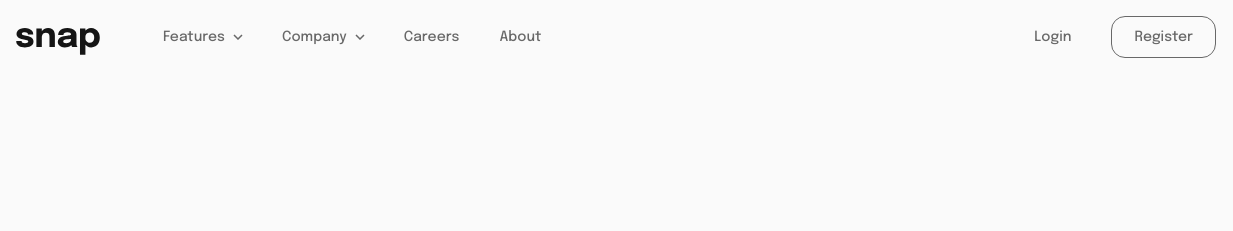
it: SiteHeader › closes when focus tabs past the last submenu link
Click the button "Company": (323,37) [282,29,364,45]
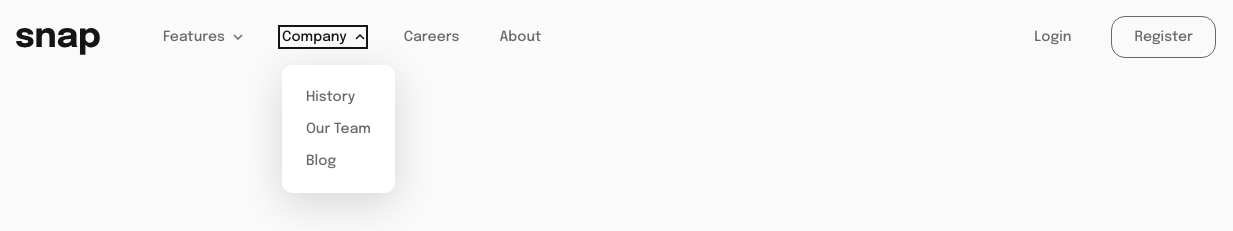
Press Tab
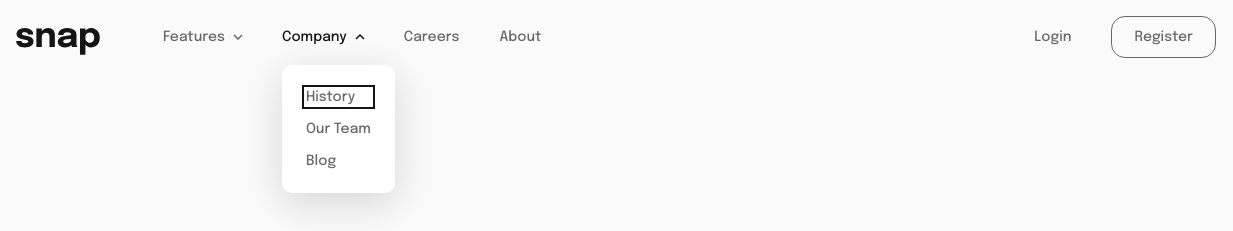
Press Tab
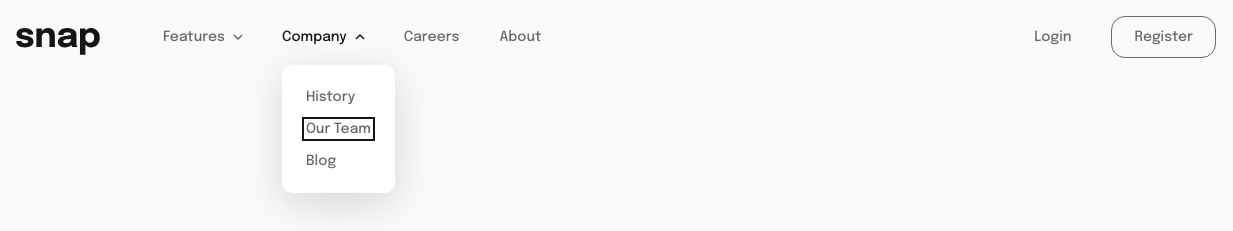
Press Tab
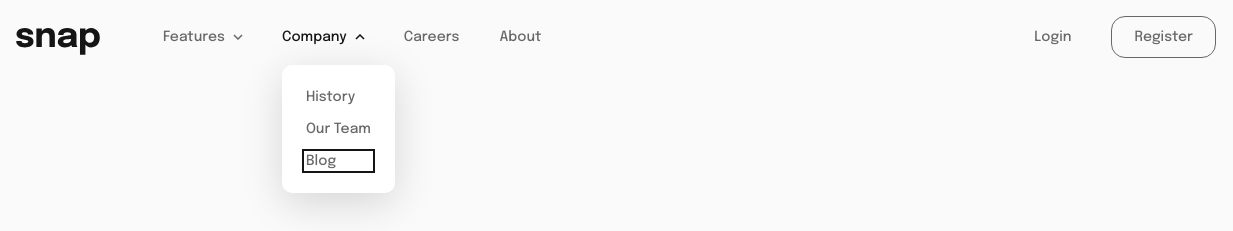
Press Tab
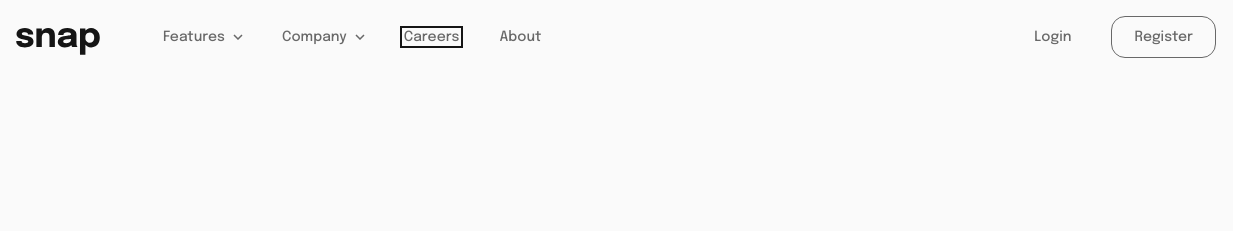
Check: the button "Company" is collapsed, box [282,29,364,45]
